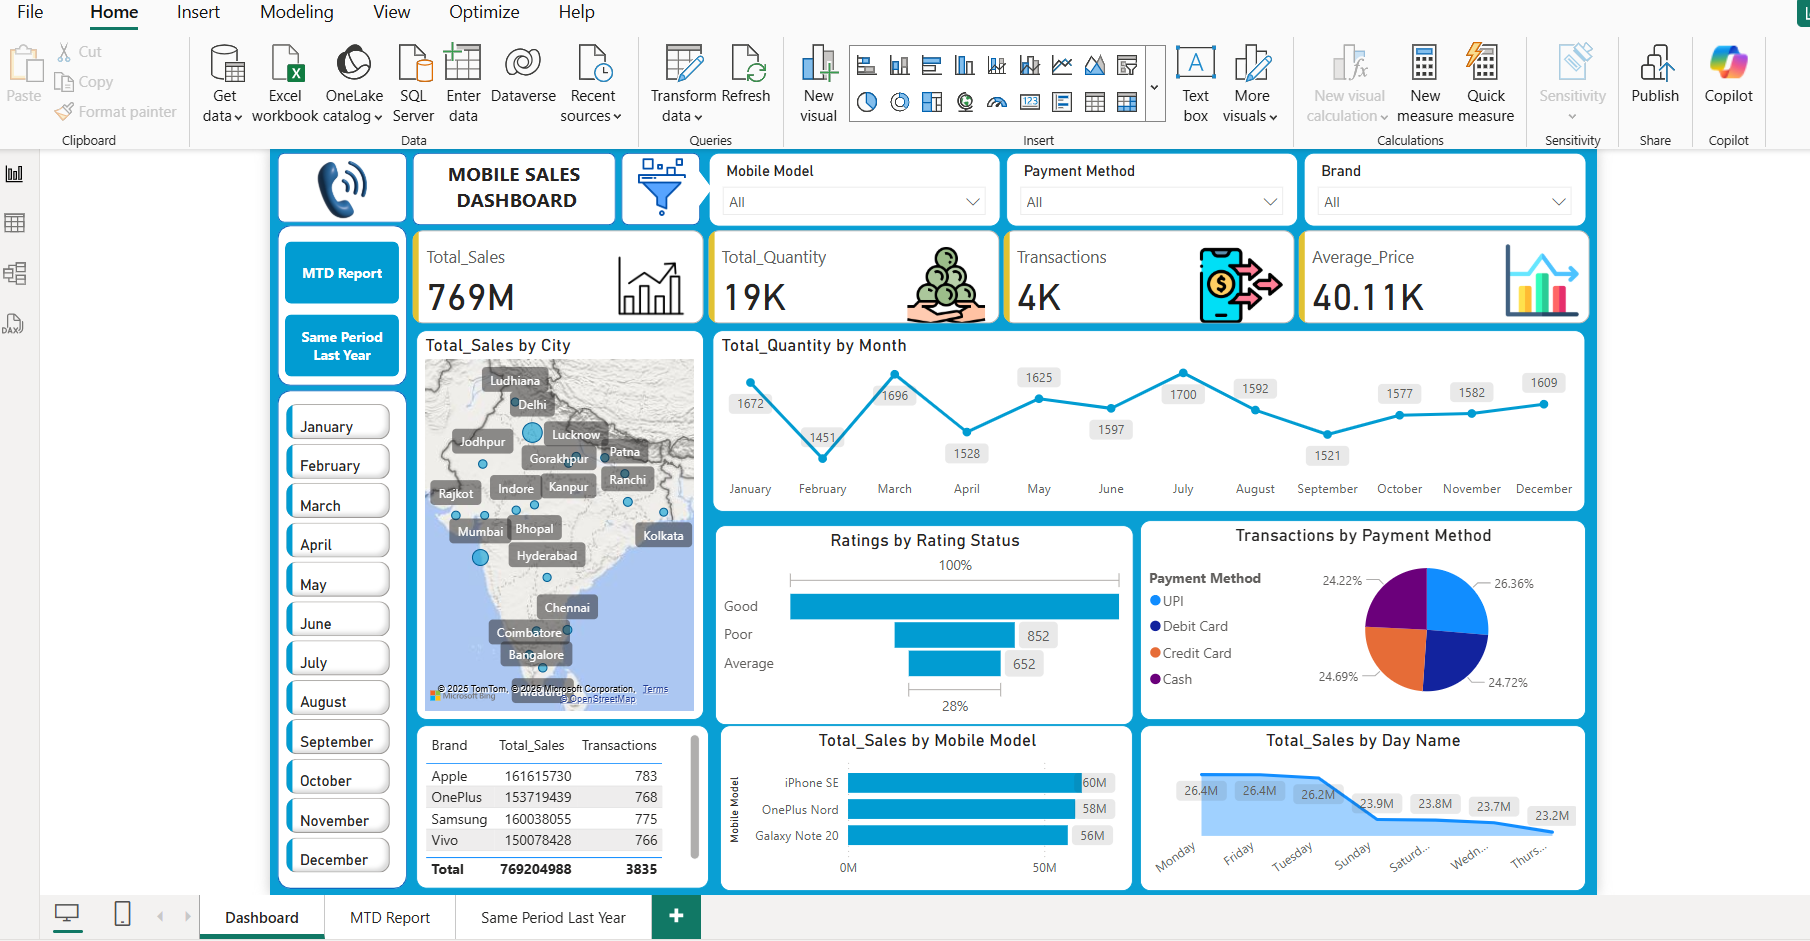

The dashboard page shown, as its layout file describes it:
{"tool":"powerbi","page":{"name":"Dashboard","canvas":[1280,720],"ordinal":0},"visuals":[{"type":"shape","box":[7.5,3.8,125,67.5],"z":0},{"type":"image","box":[195.4,196.6,78.4,71.2],"z":1000},{"type":"shape","box":[7.5,73.8,125,155],"z":2000},{"type":"shape","box":[7.5,232.5,125,481.2],"z":3000},{"type":"advancedSlicerVisual","fields":{"Values":["Custom_Calendar.Date.Variation.Date Hierarchy.Month"]},"box":[11.2,241.2,110,472.5],"z":4000},{"type":"cardVisual","fields":{"Data":["Sales_Data.Total_Sales","Sales_Data.Total_Quantity","Sales_Data.Transactions","Sales_Data.Average_Price"]},"box":[132.5,73.8,1147.5,100],"z":5000},{"type":"slicer","fields":{"Values":["Sales_Data.Mobile Model"]},"box":[423.8,3.8,281.2,71.2],"z":6000},{"type":"slicer","fields":{"Values":["Sales_Data.Payment Method"]},"box":[710,3.8,281.2,71.2],"z":7000},{"type":"slicer","fields":{"Values":["Sales_Data.Brand"]},"box":[997.5,3.8,272.5,71.2],"z":8000},{"type":"shape","box":[338.8,3.8,76.2,70],"z":9000},{"type":"image","box":[337.5,3.8,81.2,66.2],"z":10000},{"type":"shape","box":[397.5,17.5,30,40],"z":11000},{"type":"shape","box":[137.5,3.8,196.2,70],"z":12000},{"type":"textbox","box":[156.2,6.2,162.5,63.8],"z":13000},{"type":"map","fields":{"Category":["Sales_Data.City"],"Size":["Sales_Data.Total_Sales"]},"box":[141.2,175,277.5,376.2],"z":14000},{"type":"lineChart","fields":{"Y":["Sales_Data.Total_Quantity"],"Category":["Custom_Calendar.Date.Variation.Date Hierarchy.Month"]},"box":[427.5,175,842.5,175],"z":15000},{"type":"funnel","title":"Ratings by Rating Status","fields":{"Y":["CountNonNull(Sales_Data.Customer Ratings)"],"Category":["Sales_Data.Rating Status"]},"box":[429.5,363.1,404.2,193],"z":16000},{"type":"pieChart","fields":{"Y":["Sales_Data.Transactions"],"Category":["Sales_Data.Payment Method"]},"box":[840,358.8,430,192.5],"z":17000},{"type":"clusteredBarChart","fields":{"Y":["Sales_Data.Total_Sales"],"Category":["Sales_Data.Mobile Model"]},"box":[433.8,556.2,398.8,160],"z":18000},{"type":"areaChart","fields":{"Y":["Sales_Data.Total_Sales"],"Category":["Custom_Calendar.Day Name"]},"box":[840,556.2,430,160],"z":19000},{"type":"tableEx","fields":{"Values":["Sales_Data.Brand","Sales_Data.Total_Sales","Sales_Data.Transactions"]},"box":[141.2,556.2,282.5,157.5],"z":20000},{"type":"pageNavigator","box":[15,88.8,110,130],"z":21000},{"type":"image","box":[7.2,6,125.5,66.4],"z":21001}]}

Visuals, with their boxes on the page's 1280x720 design canvas (x1, y1, x2, y2). These are canvas units, not pixel positions in the 1810x941 screenshot, which may show the page scaled, cropped or inside an application window:
shape: left=8, top=4, right=132, bottom=71
image: left=195, top=197, right=274, bottom=268
shape: left=8, top=74, right=132, bottom=229
shape: left=8, top=232, right=132, bottom=714
advancedSlicerVisual - Custom_Calendar.Date.Variation.Date Hierarchy.Month: left=11, top=241, right=121, bottom=714
cardVisual - Sales_Data.Total_Sales x Sales_Data.Total_Quantity: left=132, top=74, right=1280, bottom=174
slicer - Sales_Data.Mobile Model: left=424, top=4, right=705, bottom=75
slicer - Sales_Data.Payment Method: left=710, top=4, right=991, bottom=75
slicer - Sales_Data.Brand: left=998, top=4, right=1270, bottom=75
shape: left=339, top=4, right=415, bottom=74
image: left=338, top=4, right=419, bottom=70
shape: left=398, top=18, right=428, bottom=58
shape: left=138, top=4, right=334, bottom=74
textbox: left=156, top=6, right=319, bottom=70
map - Sales_Data.City x Sales_Data.Total_Sales: left=141, top=175, right=419, bottom=551
lineChart - Sales_Data.Total_Quantity x Custom_Calendar.Date.Variation.Date Hierarchy.Month: left=428, top=175, right=1270, bottom=350
"Ratings by Rating Status" funnel: left=430, top=363, right=834, bottom=556
pieChart - Sales_Data.Transactions x Sales_Data.Payment Method: left=840, top=359, right=1270, bottom=551
clusteredBarChart - Sales_Data.Total_Sales x Sales_Data.Mobile Model: left=434, top=556, right=833, bottom=716
areaChart - Sales_Data.Total_Sales x Custom_Calendar.Day Name: left=840, top=556, right=1270, bottom=716
tableEx - Sales_Data.Brand x Sales_Data.Total_Sales: left=141, top=556, right=424, bottom=714
pageNavigator: left=15, top=89, right=125, bottom=219
image: left=7, top=6, right=133, bottom=72
